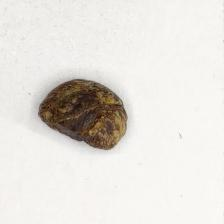NG: (39, 79, 127, 150)
